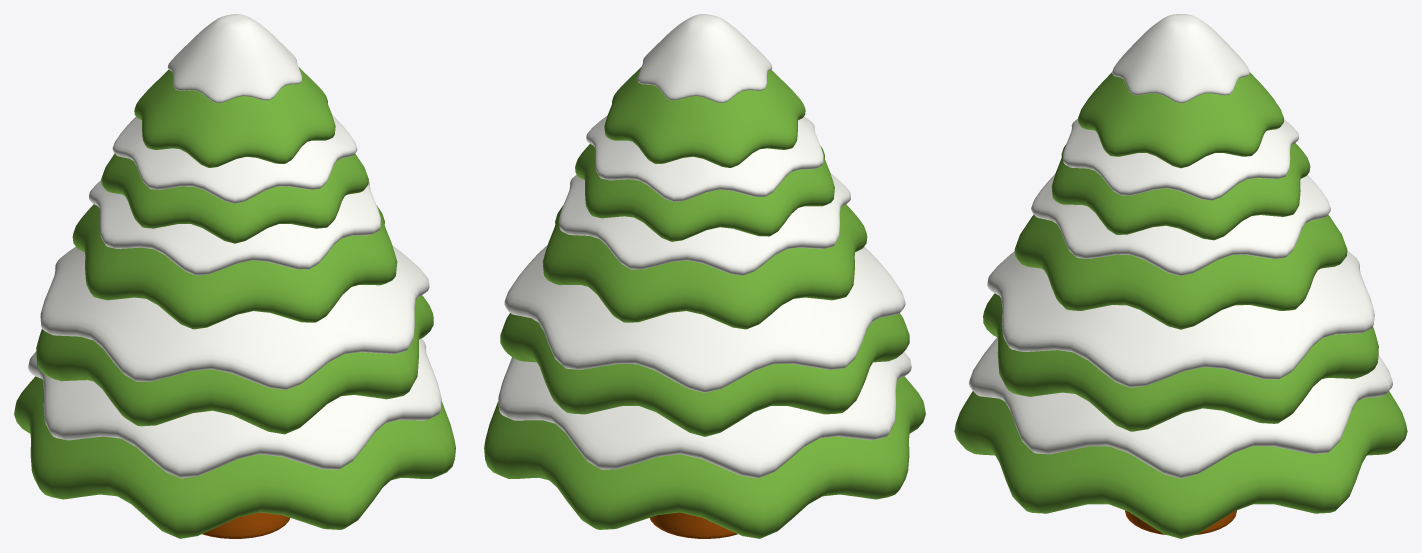
The model's file is Tree5.fbx.
3 views of the same model, side by side, from view 1: azimuth 30°, elevation 25°; view 2: azimuth 150°, elevation 25°; view 3: azimuth 270°, elevation 25° (orthographic).
Parts seen in each view (by area): view 1: Cylinder.022, Cylinder.025, Cylinder.023, Cylinder.019, Cylinder.018, Cylinder.021, Cylinder.026, Cylinder.020, Cylinder.027, Cylinder.028, Cylinder.024; view 2: Cylinder.022, Cylinder.025, Cylinder.023, Cylinder.018, Cylinder.019, Cylinder.021, Cylinder.026, Cylinder.020, Cylinder.027, Cylinder.028, Cylinder.024; view 3: Cylinder.022, Cylinder.025, Cylinder.023, Cylinder.019, Cylinder.018, Cylinder.021, Cylinder.026, Cylinder.020, Cylinder.027, Cylinder.028, Cylinder.024.
Part boxes in pixels (left/top/right/bottom): Cylinder.022: left=14, top=376, right=455, bottom=538; Cylinder.025: left=40, top=245, right=429, bottom=389; Cylinder.023: left=28, top=338, right=441, bottom=478; Cylinder.019: left=72, top=204, right=397, bottom=329; Cylinder.018: left=36, top=295, right=433, bottom=434; Cylinder.021: left=134, top=67, right=335, bottom=167; Cylinder.026: left=89, top=180, right=380, bottom=275; Cylinder.020: left=101, top=153, right=368, bottom=243; Cylinder.027: left=112, top=115, right=357, bottom=203; Cylinder.028: left=167, top=14, right=302, bottom=103; Cylinder.024: left=202, top=512, right=289, bottom=538; Cylinder.022: left=484, top=376, right=925, bottom=538; Cylinder.025: left=504, top=245, right=905, bottom=392; Cylinder.023: left=498, top=352, right=911, bottom=478; Cylinder.018: left=500, top=313, right=909, bottom=436; Cylinder.019: left=542, top=204, right=867, bottom=329; Cylinder.021: left=604, top=67, right=805, bottom=167; Cylinder.026: left=559, top=173, right=850, bottom=275; Cylinder.020: left=575, top=144, right=834, bottom=241; Cylinder.027: left=586, top=115, right=823, bottom=201; Cylinder.028: left=637, top=14, right=772, bottom=103; Cylinder.024: left=650, top=512, right=737, bottom=538; Cylinder.022: left=954, top=391, right=1407, bottom=538; Cylinder.025: left=987, top=251, right=1374, bottom=387; Cylinder.023: left=969, top=337, right=1392, bottom=478; Cylinder.019: left=1014, top=214, right=1347, bottom=329; Cylinder.018: left=983, top=293, right=1378, bottom=431; Cylinder.021: left=1078, top=72, right=1283, bottom=168; Cylinder.026: left=1031, top=173, right=1330, bottom=275; Cylinder.020: left=1051, top=142, right=1310, bottom=240; Cylinder.027: left=1063, top=119, right=1298, bottom=200; Cylinder.028: left=1112, top=14, right=1249, bottom=103; Cylinder.024: left=1125, top=510, right=1236, bottom=534.
Size of the model in its own units: 244 by 295 by 244.
